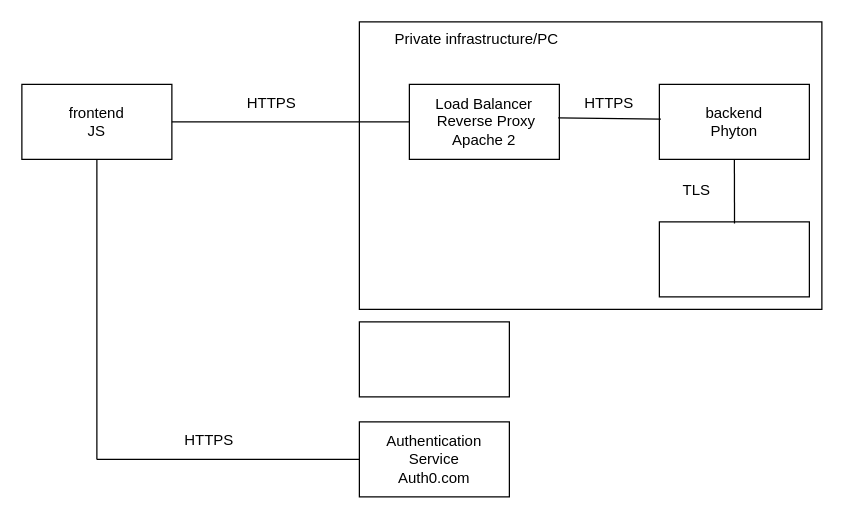
This 844x519 diagram has some shape labels left out. The centre of each missing label's shape, as x and y in pixels:
db Postgress: point 733,259
PKI OpenSSL: point 433,359
